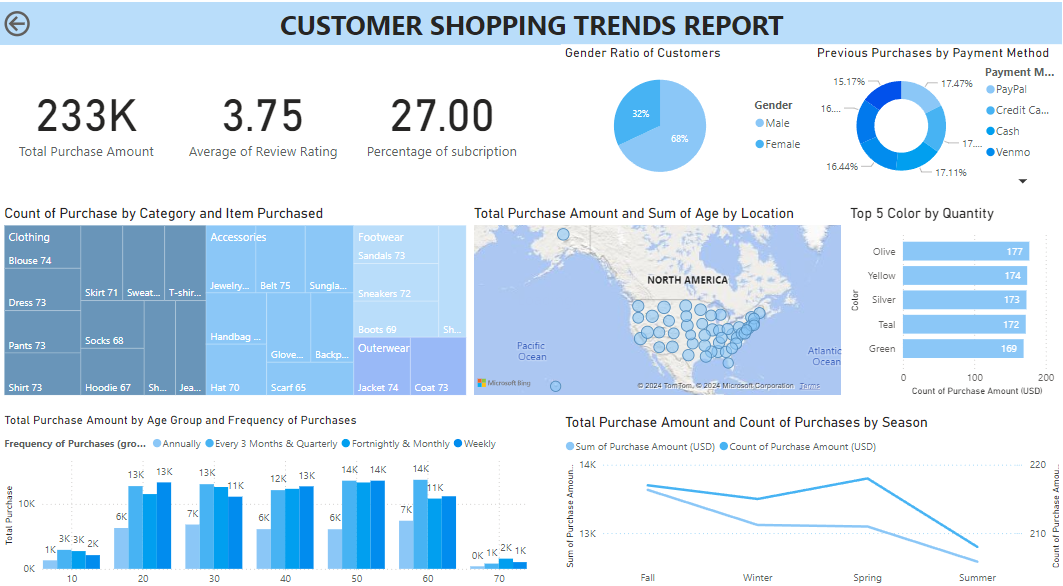

This screenshot's page, from the dashboard's own definition file:
{"tool":"powerbi","page":{"name":"Page 1","canvas":[1280,720],"ordinal":0},"visuals":[{"type":"textbox","box":[0,0,1280.8,51.8],"z":0},{"type":"card","fields":{"Values":["Sum(shopping_trends_updated.Purchase Amount (USD))"]},"box":[0,66.4,207.3,149],"z":1000},{"type":"card","fields":{"Values":["Avg(shopping_trends_updated.Review Rating)"]},"box":[207.3,66.4,218.6,149],"z":2000},{"type":"card","fields":{"Values":["shopping_trends_updated.Percentage of subcription"]},"box":[424.2,66.4,215.4,149],"z":3000},{"type":"pieChart","title":"Gender Ratio of Customers","fields":{"Category":["shopping_trends_updated.Gender"],"Y":["CountNonNull(shopping_trends_updated.Purchase Amount (USD))"]},"box":[674.7,51,304.3,177.6],"z":4000},{"type":"donutChart","title":"Previous Purchases by Payment Method","fields":{"Y":["Sum(shopping_trends_updated.Previous Purchases)"],"Category":["shopping_trends_updated.Payment Method"]},"box":[978.9,51,300.5,177.6],"z":5000},{"type":"treemap","title":"Count of Purchase by Category and Item Purchased","fields":{"Values":["Count(shopping_trends_updated.Purchase Amount (USD))"],"Details":["shopping_trends_updated.Item Purchased"],"Group":["shopping_trends_updated.Category"]},"box":[0,244,566,234],"z":6000},{"type":"actionButton","box":[0,4.9,100.4,40.5],"z":7000},{"type":"map","title":"Total Purchase Amount and Sum of Age by Location","fields":{"Category":["shopping_trends_updated.Location"],"Size":["Sum(shopping_trends_updated.Purchase Amount (USD))"]},"box":[566,244,452,234],"z":8000},{"type":"lineChart","title":"Total Purchase Amount and Count of Purchases by Season","fields":{"Category":["shopping_trends_updated.Season"],"Y":["Sum(shopping_trends_updated.Purchase Amount (USD))"],"Y2":["CountNonNull(shopping_trends_updated.Purchase Amount (USD))"]},"box":[675.2,495.5,605.6,223.5],"z":9000},{"type":"clusteredColumnChart","title":"Total Purchase Amount by Age Group and Frequency of Purchases","fields":{"Category":["shopping_trends_updated.Age (bins)"],"Y":["Sum(shopping_trends_updated.Purchase Amount (USD))"],"Series":["shopping_trends_updated.Frequency of Purchases (groups)"]},"box":[0,495.5,639.6,225.1],"z":10000},{"type":"clusteredBarChart","title":"Top 5 Color by Quantity","fields":{"Category":["shopping_trends_updated.Color"],"Y":["CountNonNull(shopping_trends_updated.Purchase Amount (USD))"]},"box":[1018,244,262,234],"z":11000}]}

Visuals, with their boxes in screenshot pixels (x1, y1, x2, y2), scaled from the page's 1280x720 canvas onto the 1063x586 screenshot:
textbox: select_region(0, 0, 1062, 42)
card - Sum(shopping_trends_updated.Purchase Amount (USD)): select_region(0, 54, 172, 175)
card - Avg(shopping_trends_updated.Review Rating): select_region(172, 54, 354, 175)
card - shopping_trends_updated.Percentage of subcription: select_region(352, 54, 531, 175)
"Gender Ratio of Customers" pieChart: select_region(560, 42, 813, 186)
"Previous Purchases by Payment Method" donutChart: select_region(813, 42, 1062, 186)
"Count of Purchase by Category and Item Purchased" treemap: select_region(0, 199, 470, 389)
actionButton: select_region(0, 4, 83, 37)
"Total Purchase Amount and Sum of Age by Location" map: select_region(470, 199, 845, 389)
"Total Purchase Amount and Count of Purchases by Season" lineChart: select_region(561, 403, 1062, 585)
"Total Purchase Amount by Age Group and Frequency of Purchases" clusteredColumnChart: select_region(0, 403, 531, 585)
"Top 5 Color by Quantity" clusteredBarChart: select_region(845, 199, 1062, 389)
